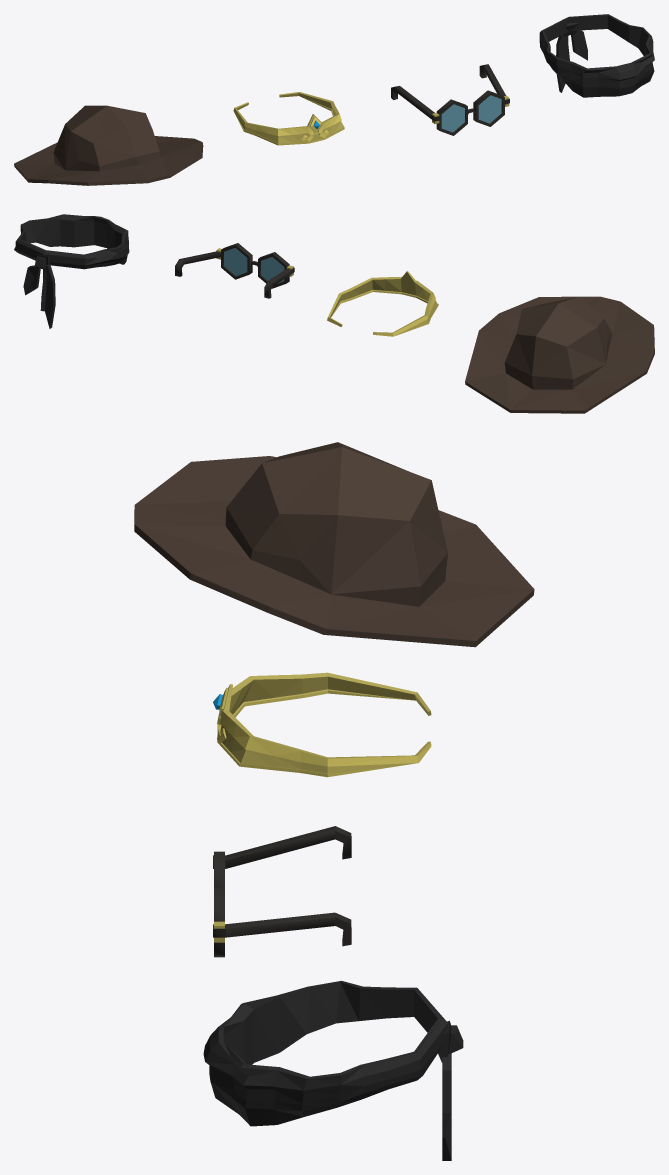
Rendered from ARMORS_hats_02.fbx.
3 views of the same model, one above another, from view 1: azimuth 30°, elevation 25°; view 2: azimuth 150°, elevation 25°; view 3: azimuth 270°, elevation 25° (orthographic). The views are drawn at different scales.
Parts seen in each view (by area): view 1: HATS3_generic_02tri:sunhat, HATS3_generic_02tri:blindfold, HATS3_generic_02tri:glasses, HATS3_generic_02tri:power_circlet; view 2: HATS3_generic_02tri:sunhat, HATS3_generic_02tri:blindfold, HATS3_generic_02tri:glasses, HATS3_generic_02tri:power_circlet; view 3: HATS3_generic_02tri:sunhat, HATS3_generic_02tri:blindfold, HATS3_generic_02tri:power_circlet, HATS3_generic_02tri:glasses.
Boxes of the visible parts, x1,y1,x2,y2 form: HATS3_generic_02tri:sunhat: (14,105,203,185); HATS3_generic_02tri:blindfold: (539,14,654,97); HATS3_generic_02tri:glasses: (391,64,509,135); HATS3_generic_02tri:power_circlet: (233,92,344,145); HATS3_generic_02tri:sunhat: (465,296,654,413); HATS3_generic_02tri:blindfold: (14,214,129,328); HATS3_generic_02tri:glasses: (175,243,294,298); HATS3_generic_02tri:power_circlet: (327,271,438,336); HATS3_generic_02tri:sunhat: (134,442,534,647); HATS3_generic_02tri:blindfold: (203,980,463,1160); HATS3_generic_02tri:power_circlet: (213,672,431,777); HATS3_generic_02tri:glasses: (213,826,351,957).
Bounding box in the file's own units: 1044 × 198 × 292.
